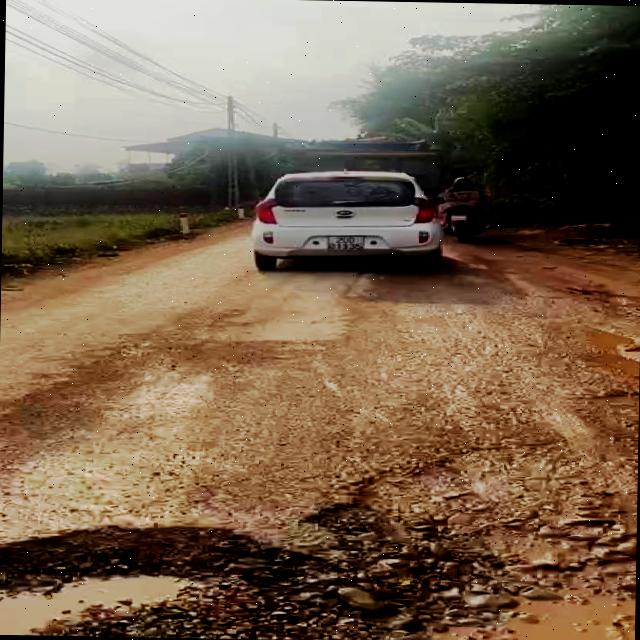pothole: (291, 429, 638, 640), (0, 516, 301, 639), (569, 326, 640, 440)
